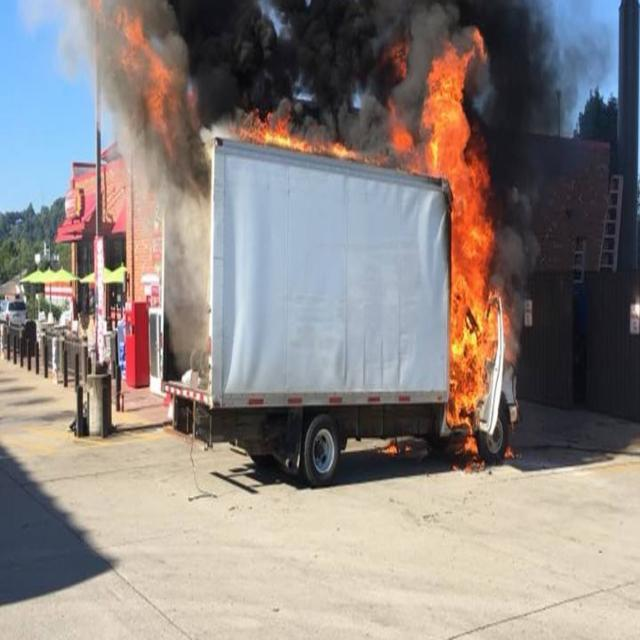Fire: (428, 41, 496, 460), (125, 7, 171, 128), (245, 121, 368, 163)
Smoke: (176, 0, 426, 106), (127, 138, 216, 380)
